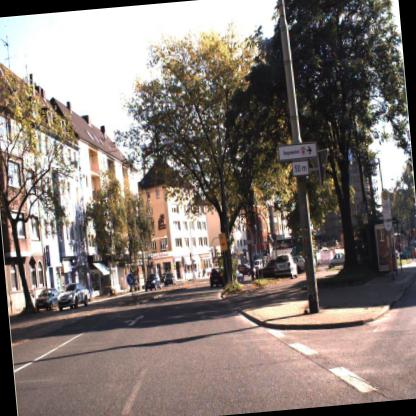mandatory: (124, 269, 136, 287)
